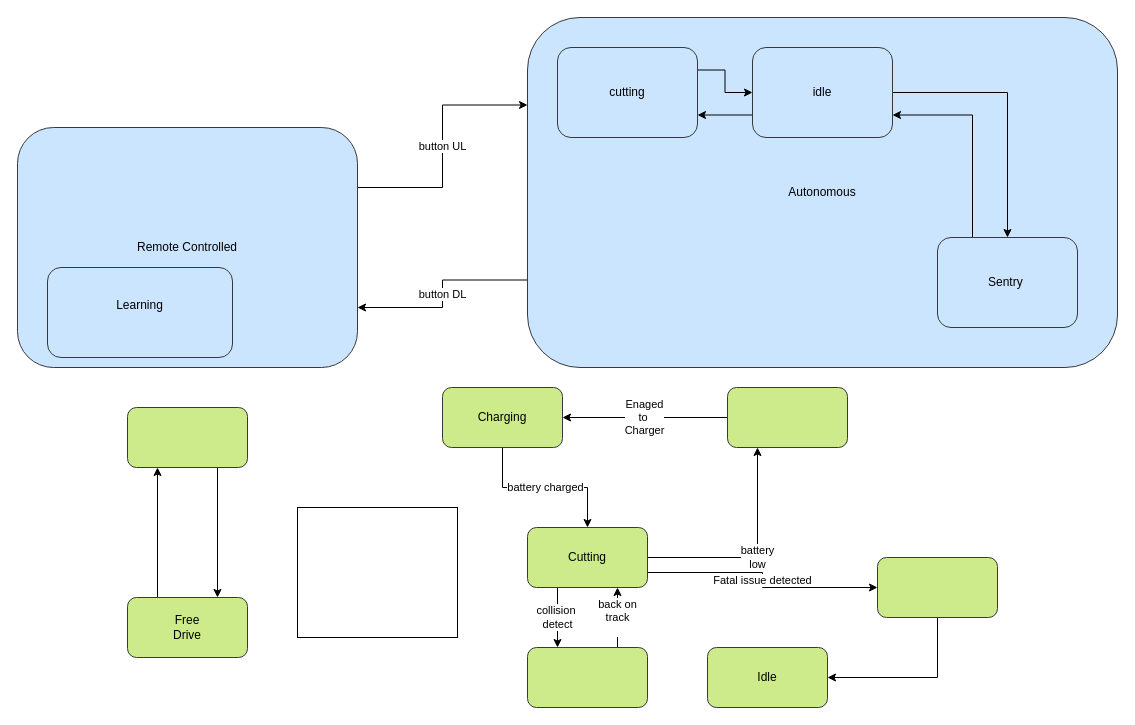
This 1135x725 diagram has some shape labels left out. Each missing label, with the centre of its shape:
Compass Aligned: (x=187, y=437)
Cutting Obstacle avoidance: (x=587, y=677)
Emergency stop: (x=937, y=587)
Going to Charging: (x=787, y=417)
Sensor data - location - speed - steer - direction - battery: (x=377, y=572)
